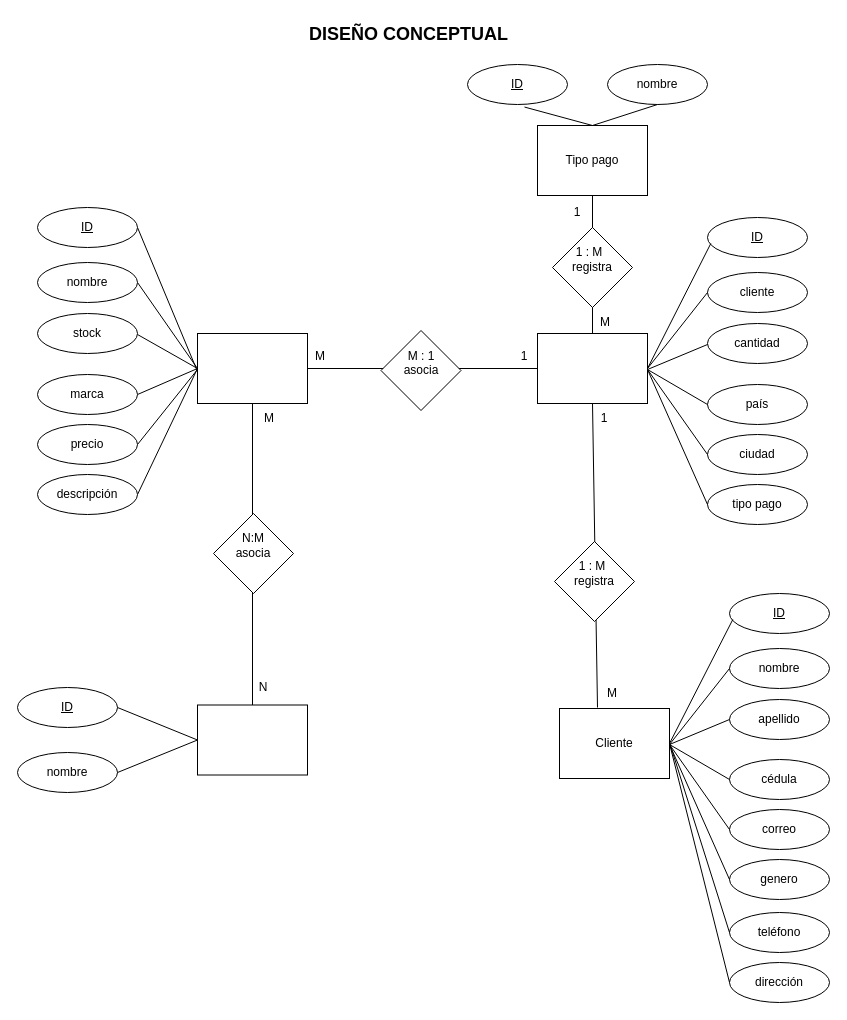
Image size: 847x1020. Some labels were removed from this diagram. The centre of each missing label's shape, as x and y in pixels:
"Categoria" goes at [252,739].
"Compra" goes at [592,368].
"Producto" goes at [252,368].
